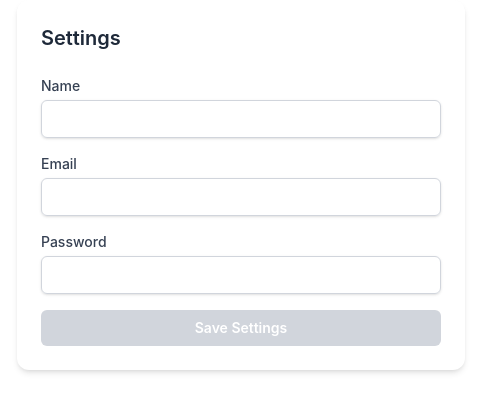
SettingsForm › shows error for invalid email
Type "bademail" into the field labelled "Email" at point(241, 197), box left=41, top=178, right=441, bottom=216
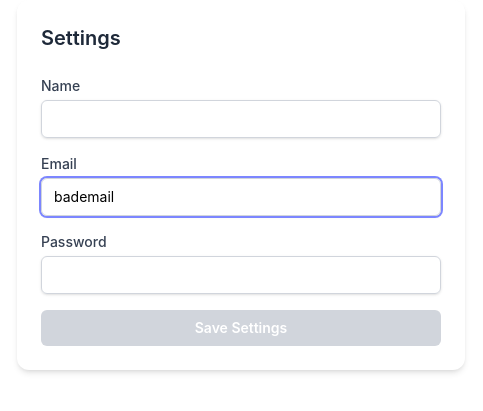
Press Tab
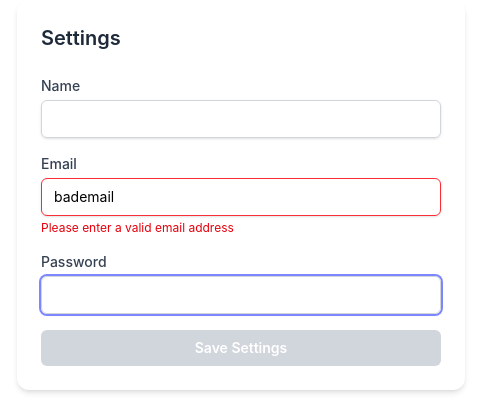
Check: the text "Please enter a valid email address" is shown, box left=41, top=220, right=234, bottom=235
